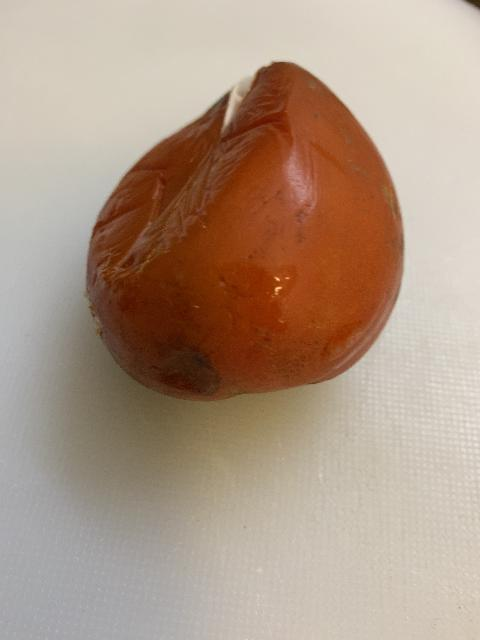defect: (78, 57, 411, 408)
